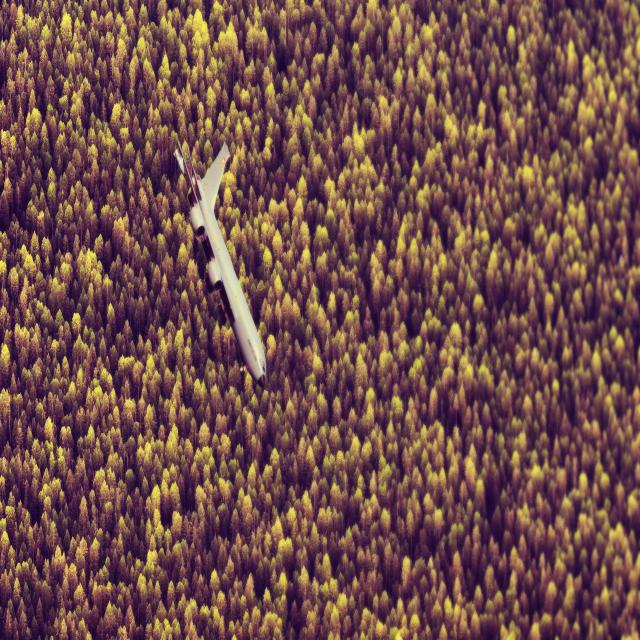airplane: (173, 136, 267, 388)
